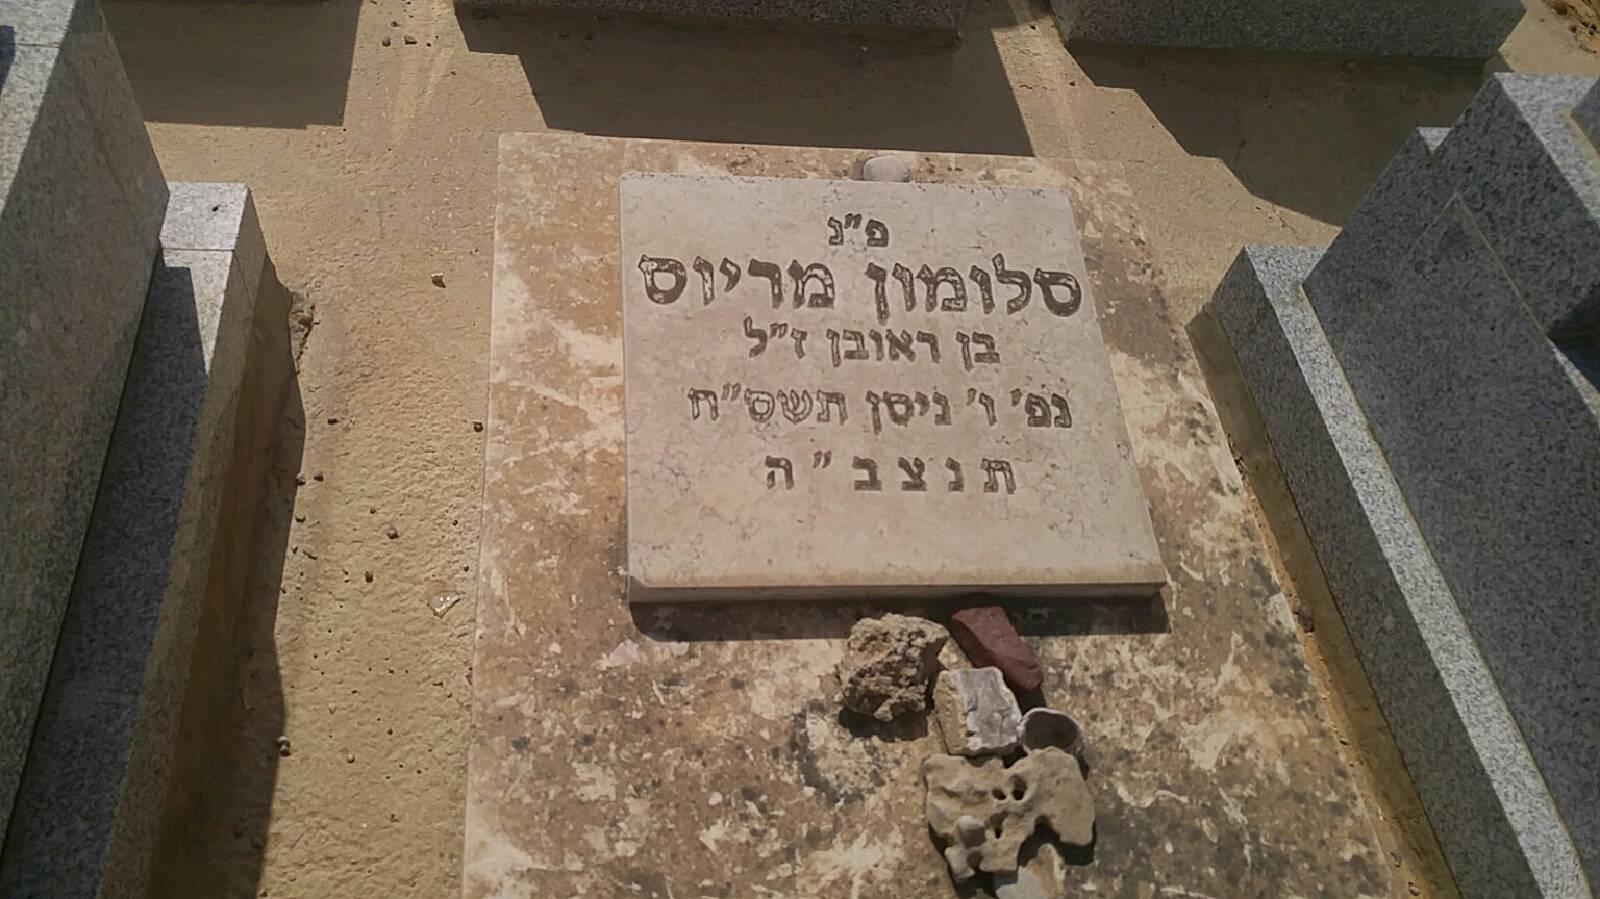vault: (456, 118, 1400, 899)
